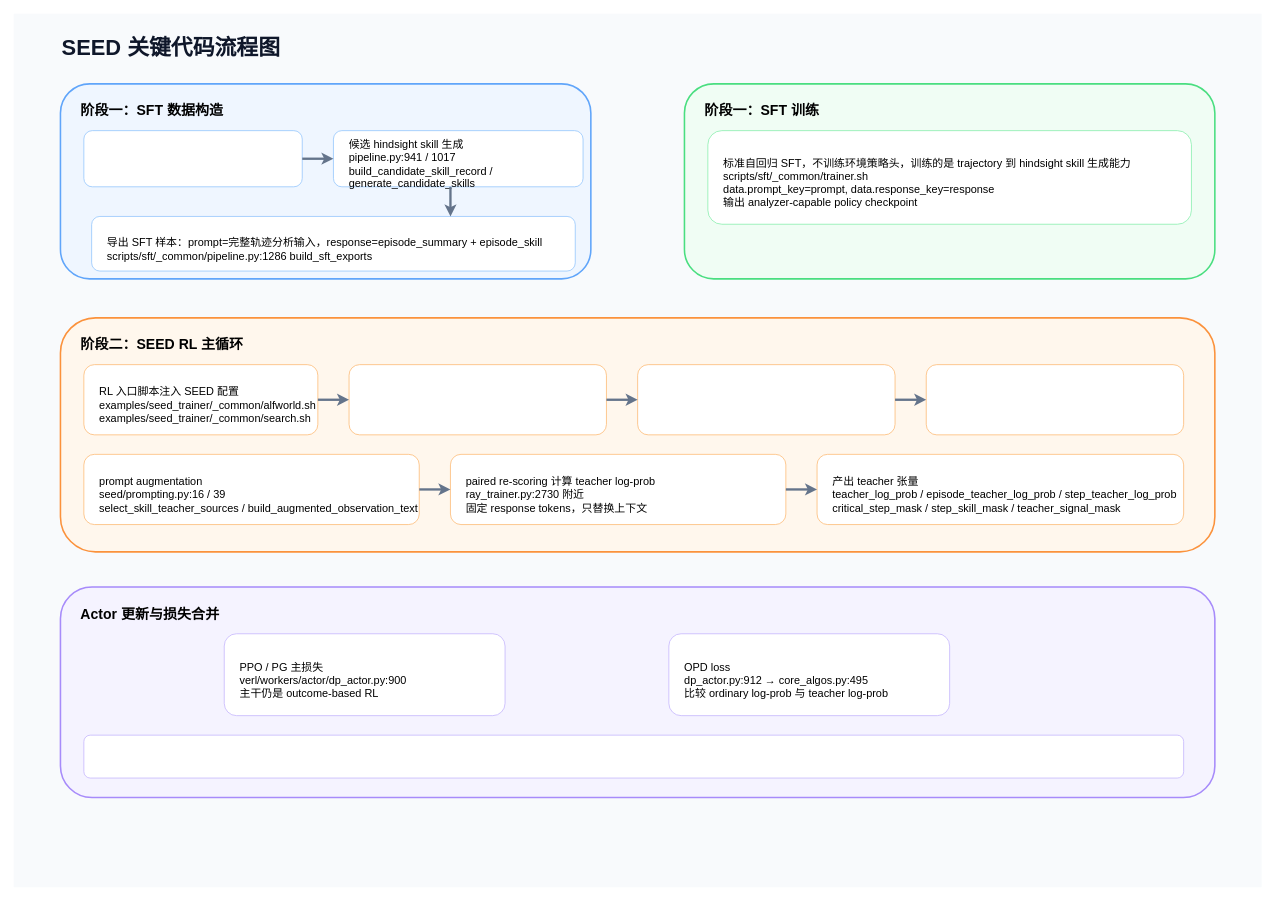
This 1275x900 diagram has some shape labels left out. The shapes that lost their labels are listed below. From the top down, each one's centre as x and y in pixels, then its label:
At (x=192, y=158): "baseline rollout 采样 scripts/sft/_common/pipeline.py:652 run_rollout_specs".
At (x=477, y=399): "veRL PPO trainer 主干 verl/trainer/ppo/ray_trainer.py:502 RayPPOTrainer".
At (x=766, y=399): "构造完整 episode 记录 ray_trainer.py:2340 _prepare_seed_teacher_signals".
At (x=1054, y=399): "调用 analyzer 生成 hindsight skill seed/analysis.py:309 analyze_episode".
At (x=633, y=756): "整体闭环：更强 actor → 更好轨迹 → 更好 hindsight skill → 更强 teacher signal → 更强 actor".
